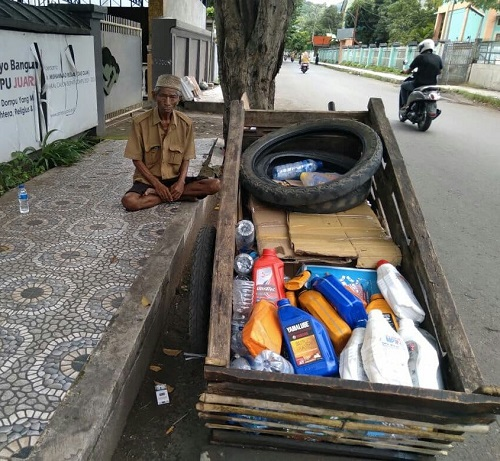pemulung: (194, 92, 494, 454)
